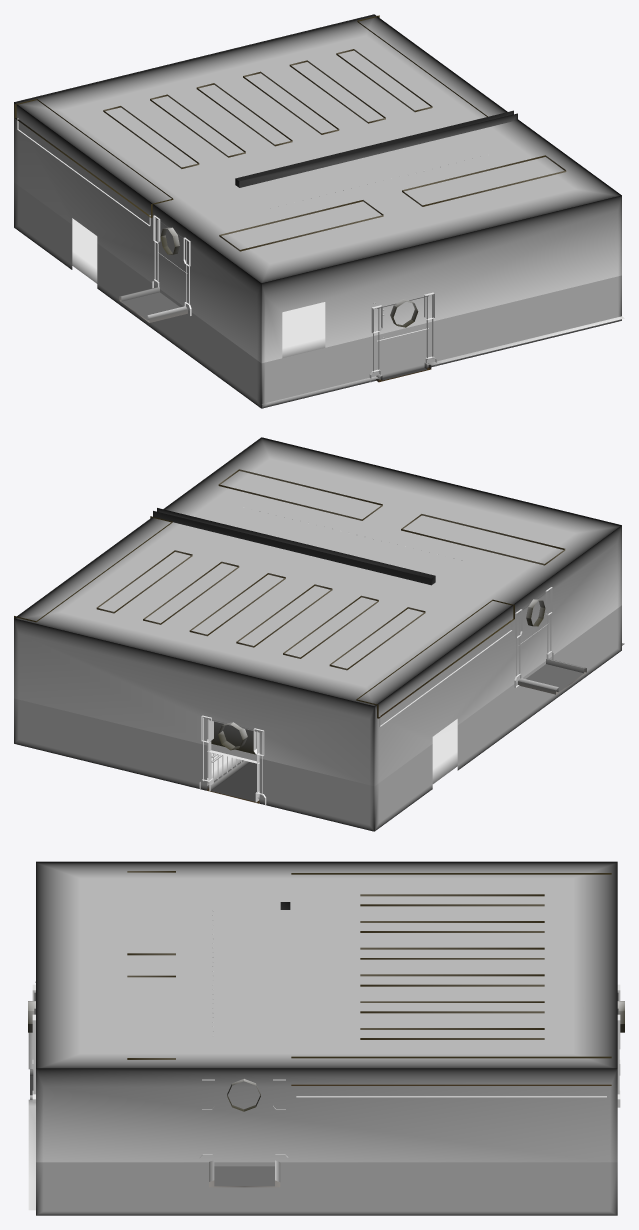
File: mint_conveyor_room.fbx
The picture shows the model from 3 angles, top to bottom: view 1: azimuth 30°, elevation 25°; view 2: azimuth 150°, elevation 25°; view 3: azimuth 270°, elevation 25°; orthographic projection. The views are drawn at different scales.
Visible parts, largest first — view 1: roof, Wall_Upper, Wall_Lower, Floor, LongLights, Wall_Barrier, Belts, Gliders, PortalOut.001, PortalOut; view 2: roof, Wall_Upper, Wall_Lower, LongLights, Wall_Barrier, Belts, PortalIn.001, Floor, Gliders, PortalOut; view 3: roof, Wall_Upper, Wall_Lower, LongLights, Gliders, Belts, Floor, PortalIn.001, PortalOut.001.
Part boxes in pixels (x1=…): roof: x1=15, y1=15, x2=620, y2=283; Wall_Upper: x1=14, y1=14, x2=621, y2=363; Wall_Lower: x1=14, y1=182, x2=621, y2=408; Floor: x1=72, y1=218, x2=624, y2=406; LongLights: x1=103, y1=49, x2=566, y2=251; Wall_Barrier: x1=235, y1=110, x2=517, y2=187; Belts: x1=119, y1=287, x2=431, y2=382; Gliders: x1=14, y1=15, x2=487, y2=226; PortalOut.001: x1=369, y1=292, x2=436, y2=382; PortalOut: x1=152, y1=215, x2=191, y2=315; roof: x1=15, y1=438, x2=620, y2=706; Wall_Upper: x1=14, y1=437, x2=621, y2=786; Wall_Lower: x1=14, y1=605, x2=621, y2=831; LongLights: x1=96, y1=469, x2=565, y2=670; Wall_Barrier: x1=153, y1=508, x2=435, y2=585; Belts: x1=207, y1=659, x2=586, y2=803; PortalIn.001: x1=199, y1=715, x2=266, y2=804; Floor: x1=207, y1=643, x2=624, y2=785; Gliders: x1=14, y1=516, x2=514, y2=726; PortalOut: x1=514, y1=587, x2=553, y2=687; roof: x1=36, y1=862, x2=617, y2=1068; Wall_Upper: x1=36, y1=861, x2=617, y2=1162; Wall_Lower: x1=36, y1=1162, x2=617, y2=1215; LongLights: x1=127, y1=871, x2=544, y2=1059; Gliders: x1=291, y1=873, x2=611, y2=1097; Belts: x1=30, y1=1069, x2=280, y2=1187; Floor: x1=28, y1=1032, x2=35, y2=1210; PortalIn.001: x1=617, y1=984, x2=624, y2=1107; PortalOut.001: x1=28, y1=984, x2=35, y2=1103.
Bounding box in the file's own units: 4398 × 1280 × 4563.
